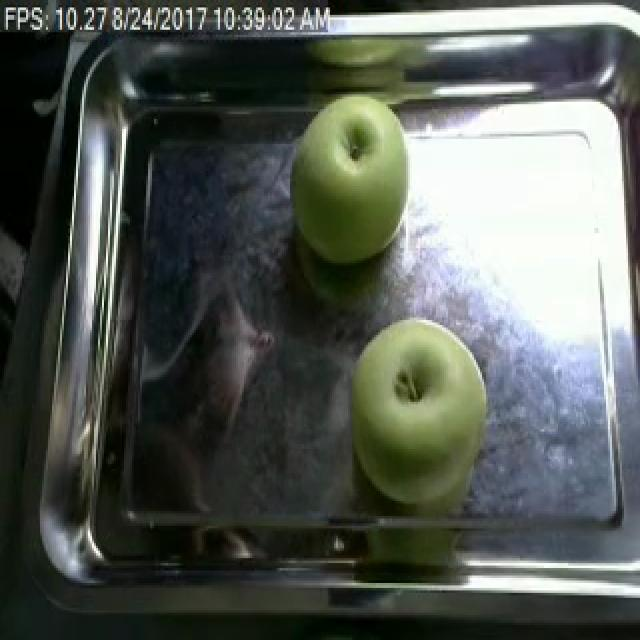50-_ripeness: (339, 304, 496, 512), (294, 90, 413, 264)
